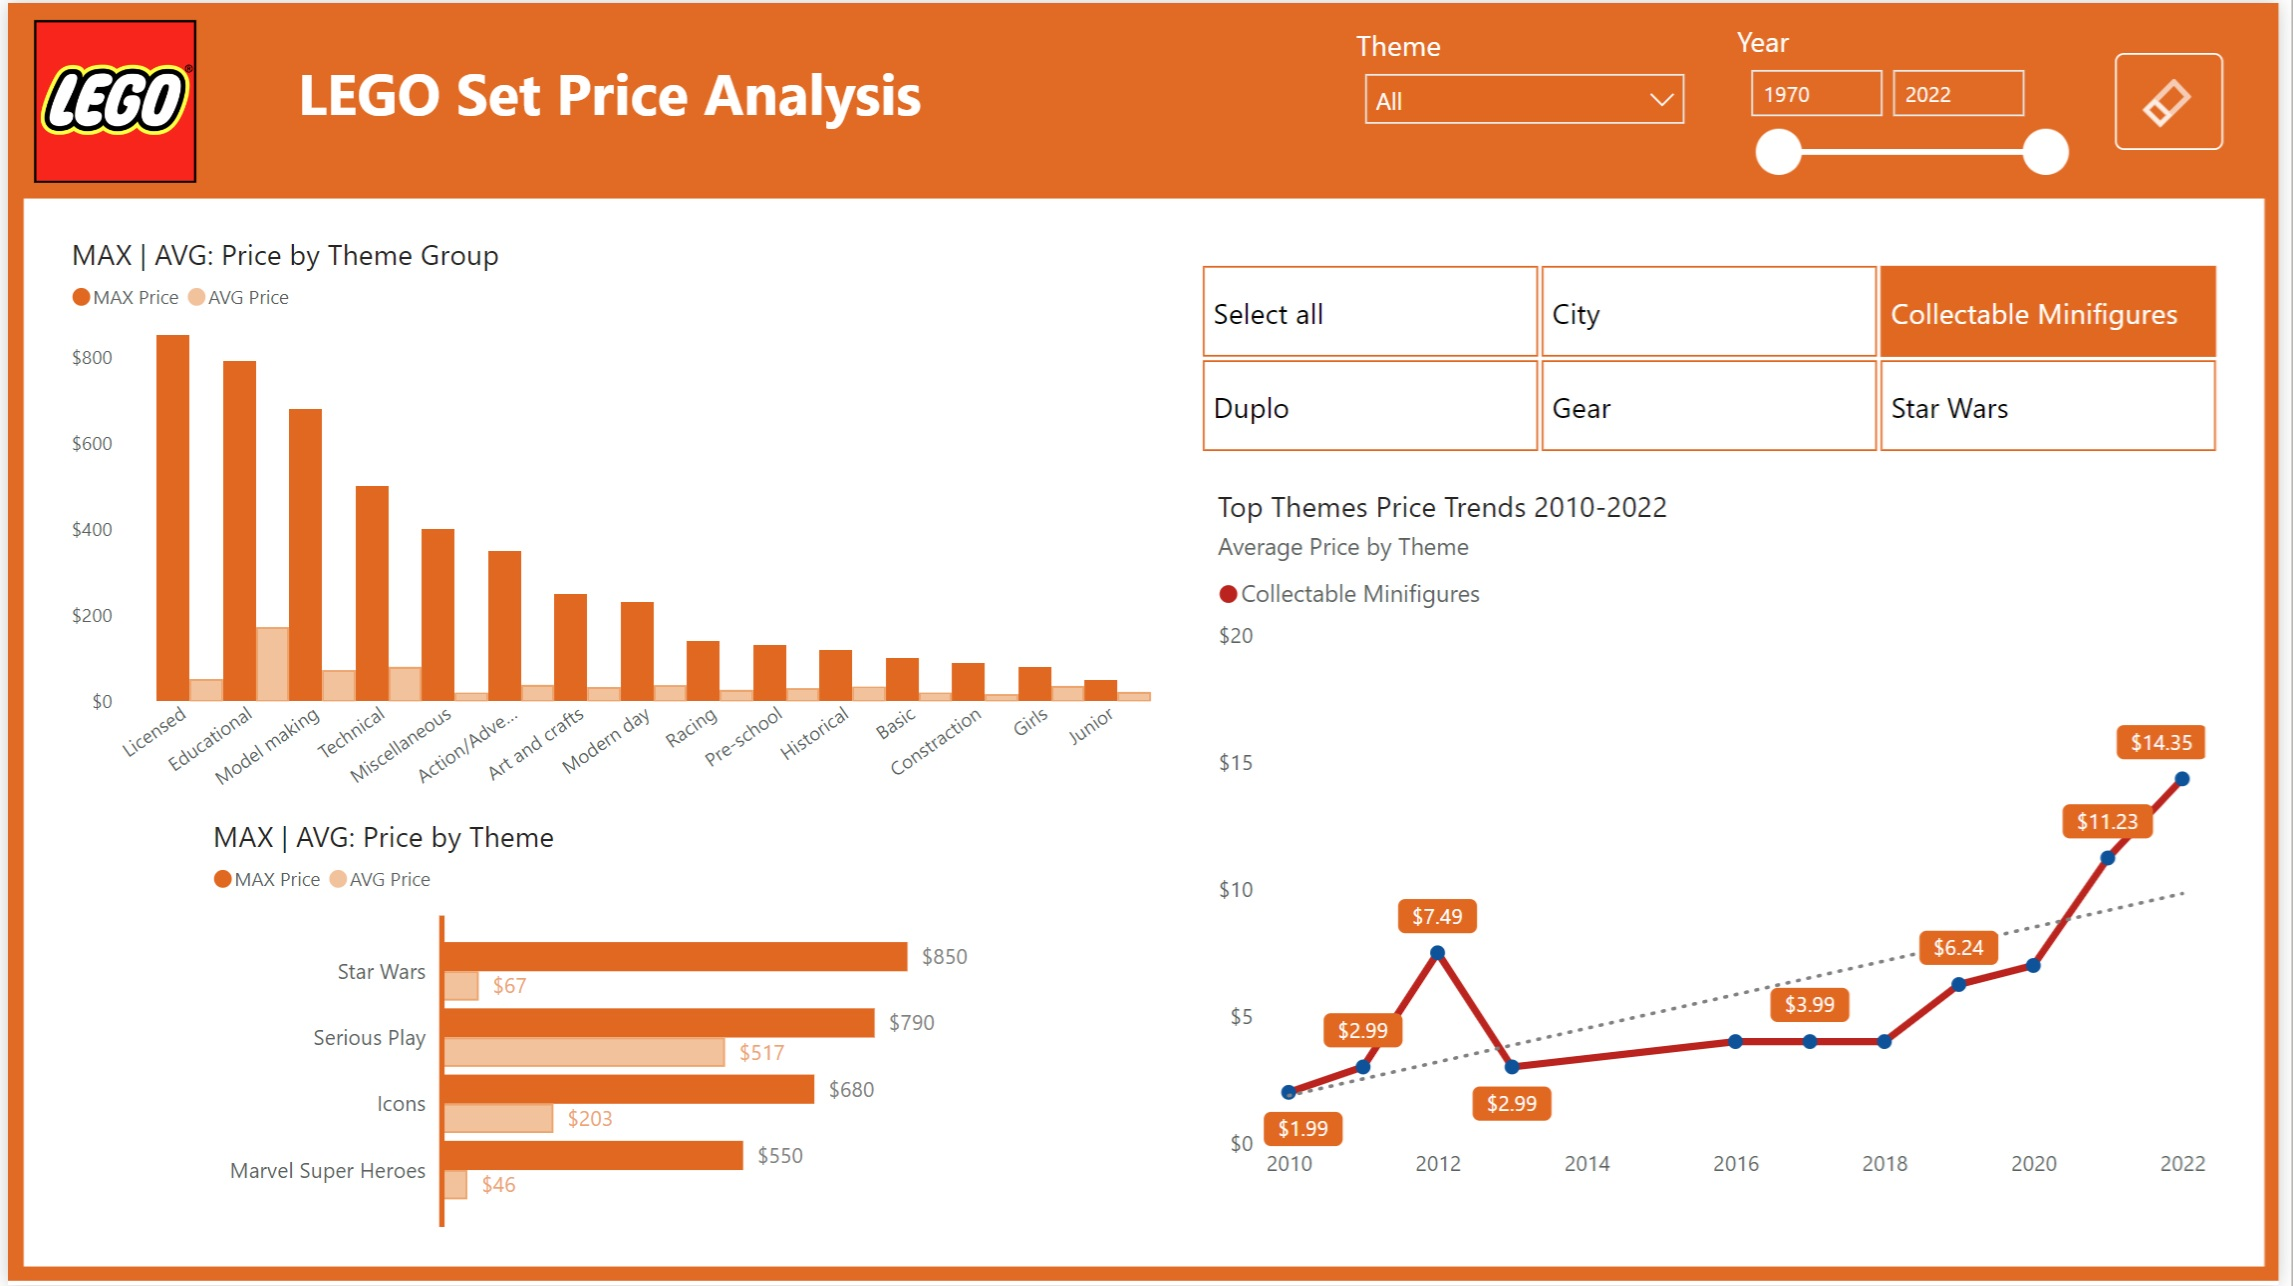

The dashboard page shown, as its layout file describes it:
{"tool":"powerbi","page":{"name":"Prices ","canvas":[1280,720],"ordinal":1},"visuals":[{"type":"lineChart","title":"Top Themes Price Trends 2010-2022","fields":{"Y":["Measure Table.Average Price"],"Category":["LEGO sets.Year"],"Series":["LEGO sets.Theme"]},"box":[672.2,266.7,576.7,418.9],"z":0},{"type":"clusteredColumnChart","title":"MAX | AVG: Price by Theme Group","fields":{"Category":["LEGO sets.Theme Group"],"Y":["Measure Table.MAX Price","Measure Table.AVG Price"]},"box":[25,125,628,327],"z":1000},{"type":"slicer","title":"Theme","fields":{"Values":["LEGO sets.Theme"]},"box":[755,12.5,200,92.5],"z":2000},{"type":"slicer","title":"Year","fields":{"Values":["LEGO sets.Year"]},"box":[970,10,200,89],"z":3000},{"type":"advancedSlicerVisual","fields":{"Values":["LEGO sets.Theme"]},"box":[668.4,143,582.3,115.2],"z":4000},{"type":"clusteredBarChart","title":"MAX | AVG: Price by Theme ","fields":{"Category":["LEGO sets.Theme"],"Y":["Measure Table.MAX Price","Measure Table.Average Price"]},"box":[113.2,452.7,469.2,240.7],"z":5000},{"type":"image","box":[7,4.1,107,101.4],"z":6000},{"type":"actionButton","box":[1187.8,27.8,61.1,54.4],"z":7000},{"type":"textbox","box":[158,22.9,381.9,65.1],"z":8000}]}

Visuals, with their boxes in screenshot pixels (x1, y1, x2, y2), scaled from the page's 1280x720 canvas onto the 2293x1286 screenshot:
"Top Themes Price Trends 2010-2022" lineChart: (x1=1204, y1=476, x2=2237, y2=1225)
"MAX | AVG: Price by Theme Group" clusteredColumnChart: (x1=45, y1=223, x2=1170, y2=807)
"Theme" slicer: (x1=1353, y1=22, x2=1711, y2=188)
"Year" slicer: (x1=1738, y1=18, x2=2096, y2=177)
advancedSlicerVisual - LEGO sets.Theme: (x1=1197, y1=255, x2=2241, y2=461)
"MAX | AVG: Price by Theme " clusteredBarChart: (x1=203, y1=809, x2=1043, y2=1238)
image: (x1=13, y1=7, x2=204, y2=188)
actionButton: (x1=2128, y1=50, x2=2237, y2=147)
textbox: (x1=283, y1=41, x2=967, y2=157)
